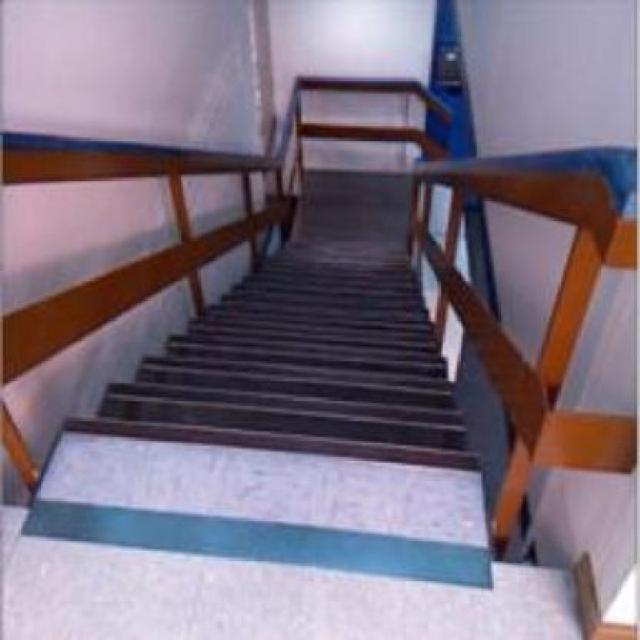stair: (66, 248, 492, 488)
